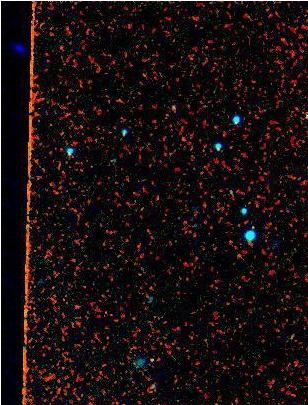star: (142, 345, 172, 375)
